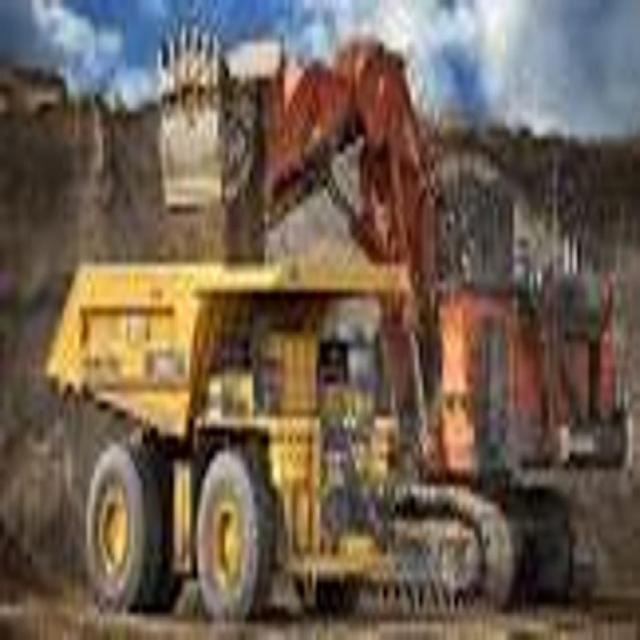dump_truck: (46, 237, 412, 640)
